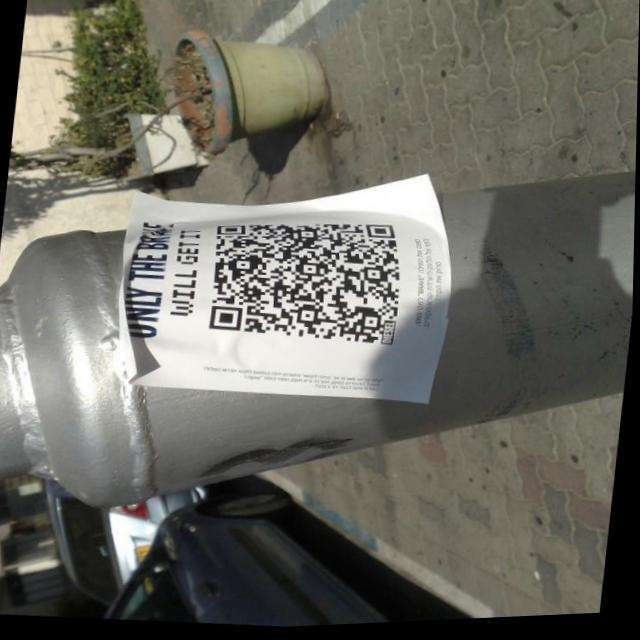qrcode: (209, 214, 408, 354)
